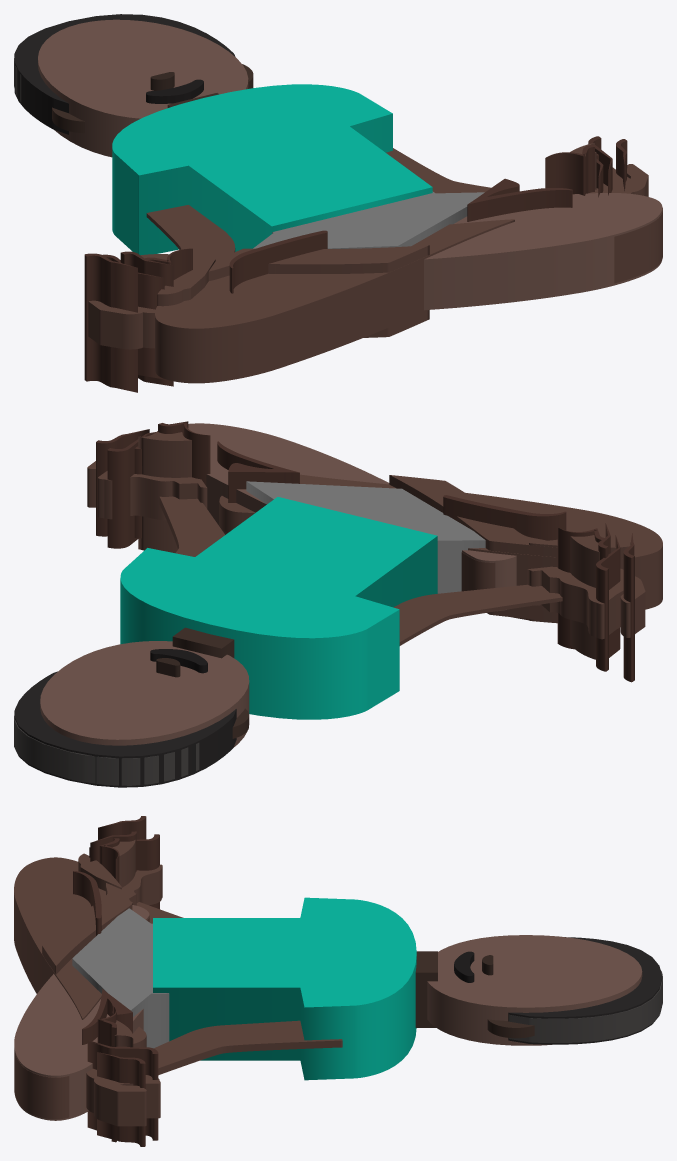
File: emoji_u1f9d8_1f3ff_200d_2642.glb
3 views of the same model, one above another, from view 1: azimuth 30°, elevation 25°; view 2: azimuth 150°, elevation 25°; view 3: azimuth 270°, elevation 25° (orthographic). The views are drawn at different scales.
Parts seen in each view (by area): view 1: emoji_u1f9d8_1f3ff_200d_2642; view 2: emoji_u1f9d8_1f3ff_200d_2642; view 3: emoji_u1f9d8_1f3ff_200d_2642.
Part boxes in pixels (box(x1,y1,x2,y2)): emoji_u1f9d8_1f3ff_200d_2642: box(14, 14, 662, 392); emoji_u1f9d8_1f3ff_200d_2642: box(14, 421, 662, 787); emoji_u1f9d8_1f3ff_200d_2642: box(14, 816, 662, 1146).
Size of the model in its own units: 0.0294 by 0.0066 by 0.0339.
